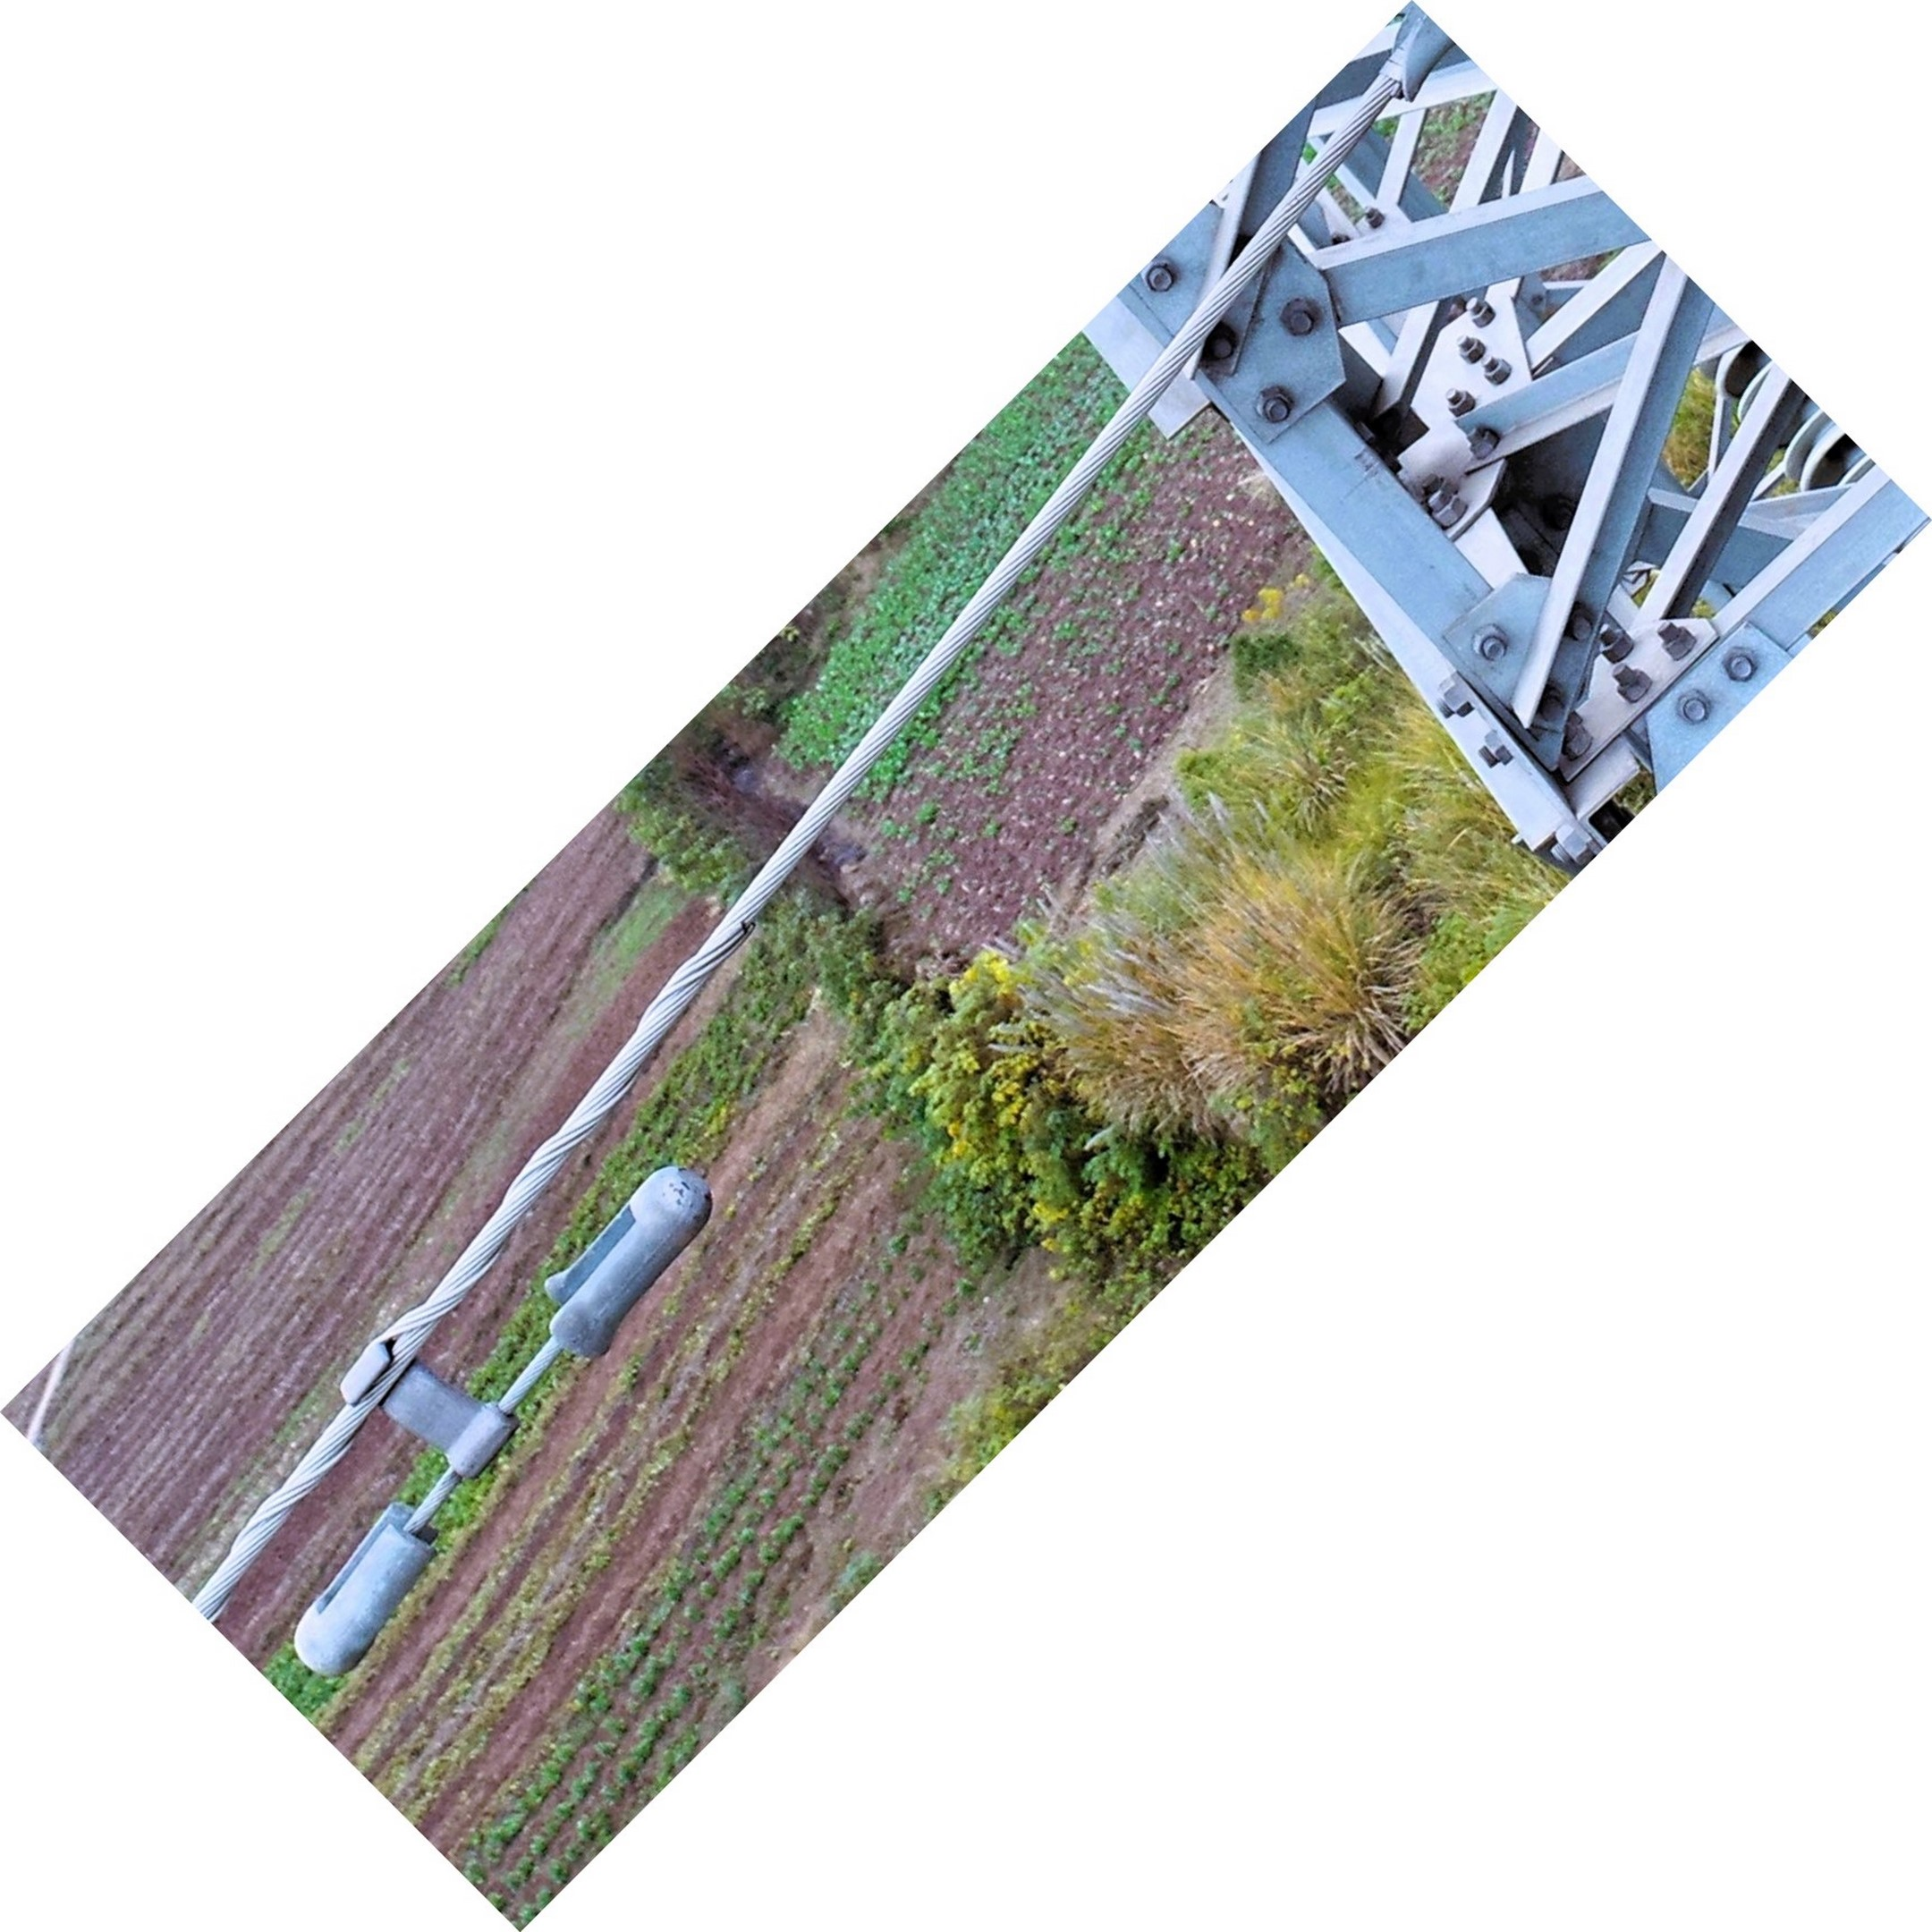Shockproof hammer: (267, 1131, 736, 1693)
